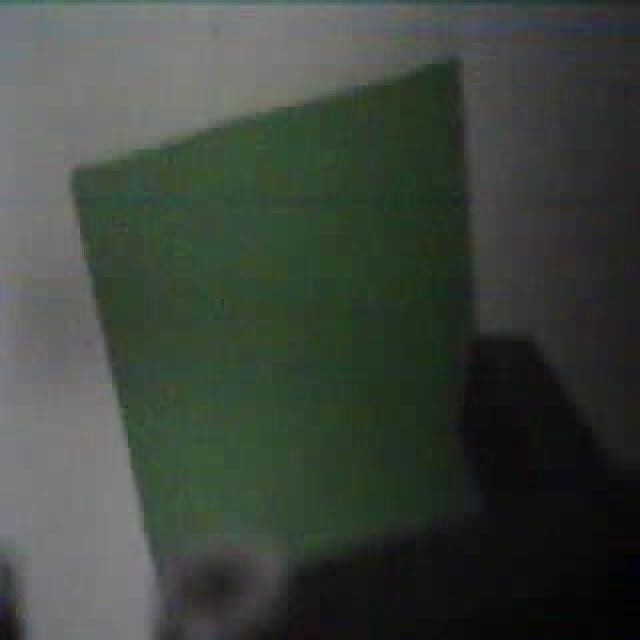green_box: (68, 53, 482, 590)
